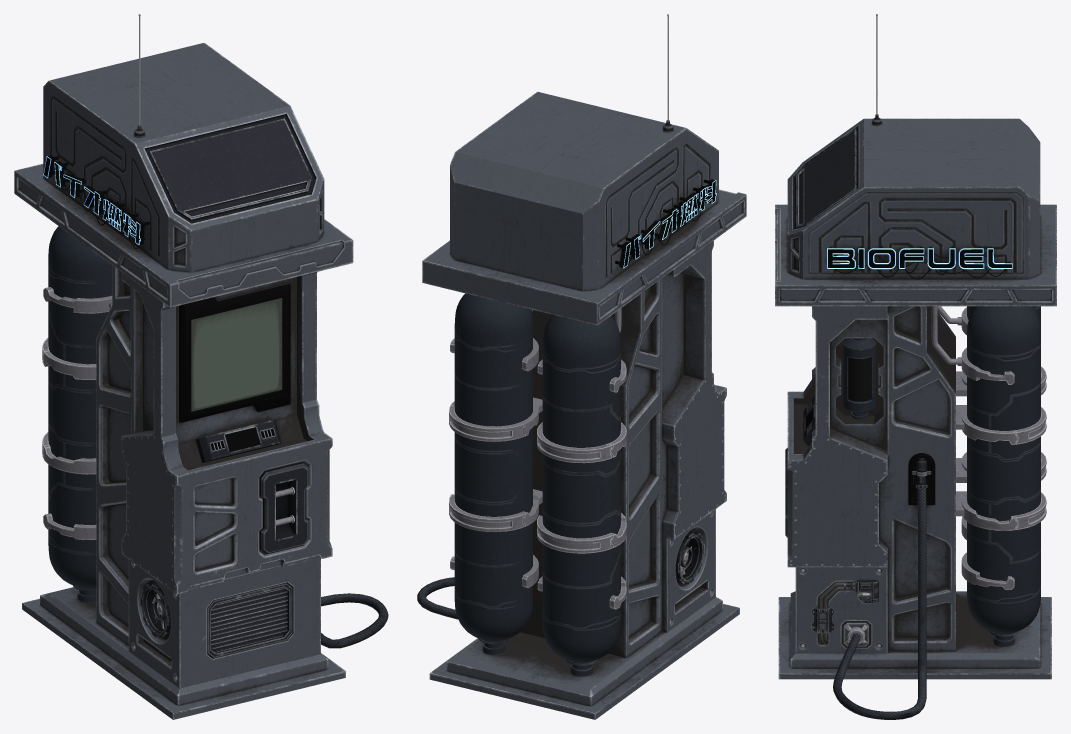
3 renders of one model, left to right at view 1: azimuth 30°, elevation 25°; view 2: azimuth 150°, elevation 25°; view 3: azimuth 270°, elevation 25°, orthographic. The views are drawn at different scales.
Parts seen in each view (by area): view 1: Object_3, Object_2; view 2: Object_3; view 3: Object_3.
Part boxes in pixels (box(x1,y1,x2,y2)): Object_3: box(14, 14, 388, 719); Object_2: box(225, 427, 259, 451); Object_3: box(417, 14, 746, 719); Object_3: box(775, 14, 1056, 719).
Bounding box in the file's own units: 1.32 × 3.03 × 1.3.
Materials: 1 (1 with a texture image).
